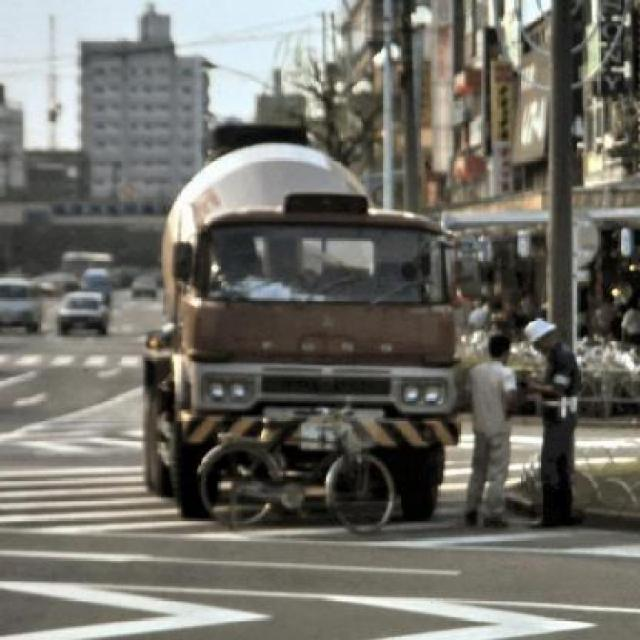Person: (522, 316, 580, 526), (460, 335, 514, 523), (614, 301, 638, 342), (463, 294, 488, 331), (595, 291, 616, 332)
